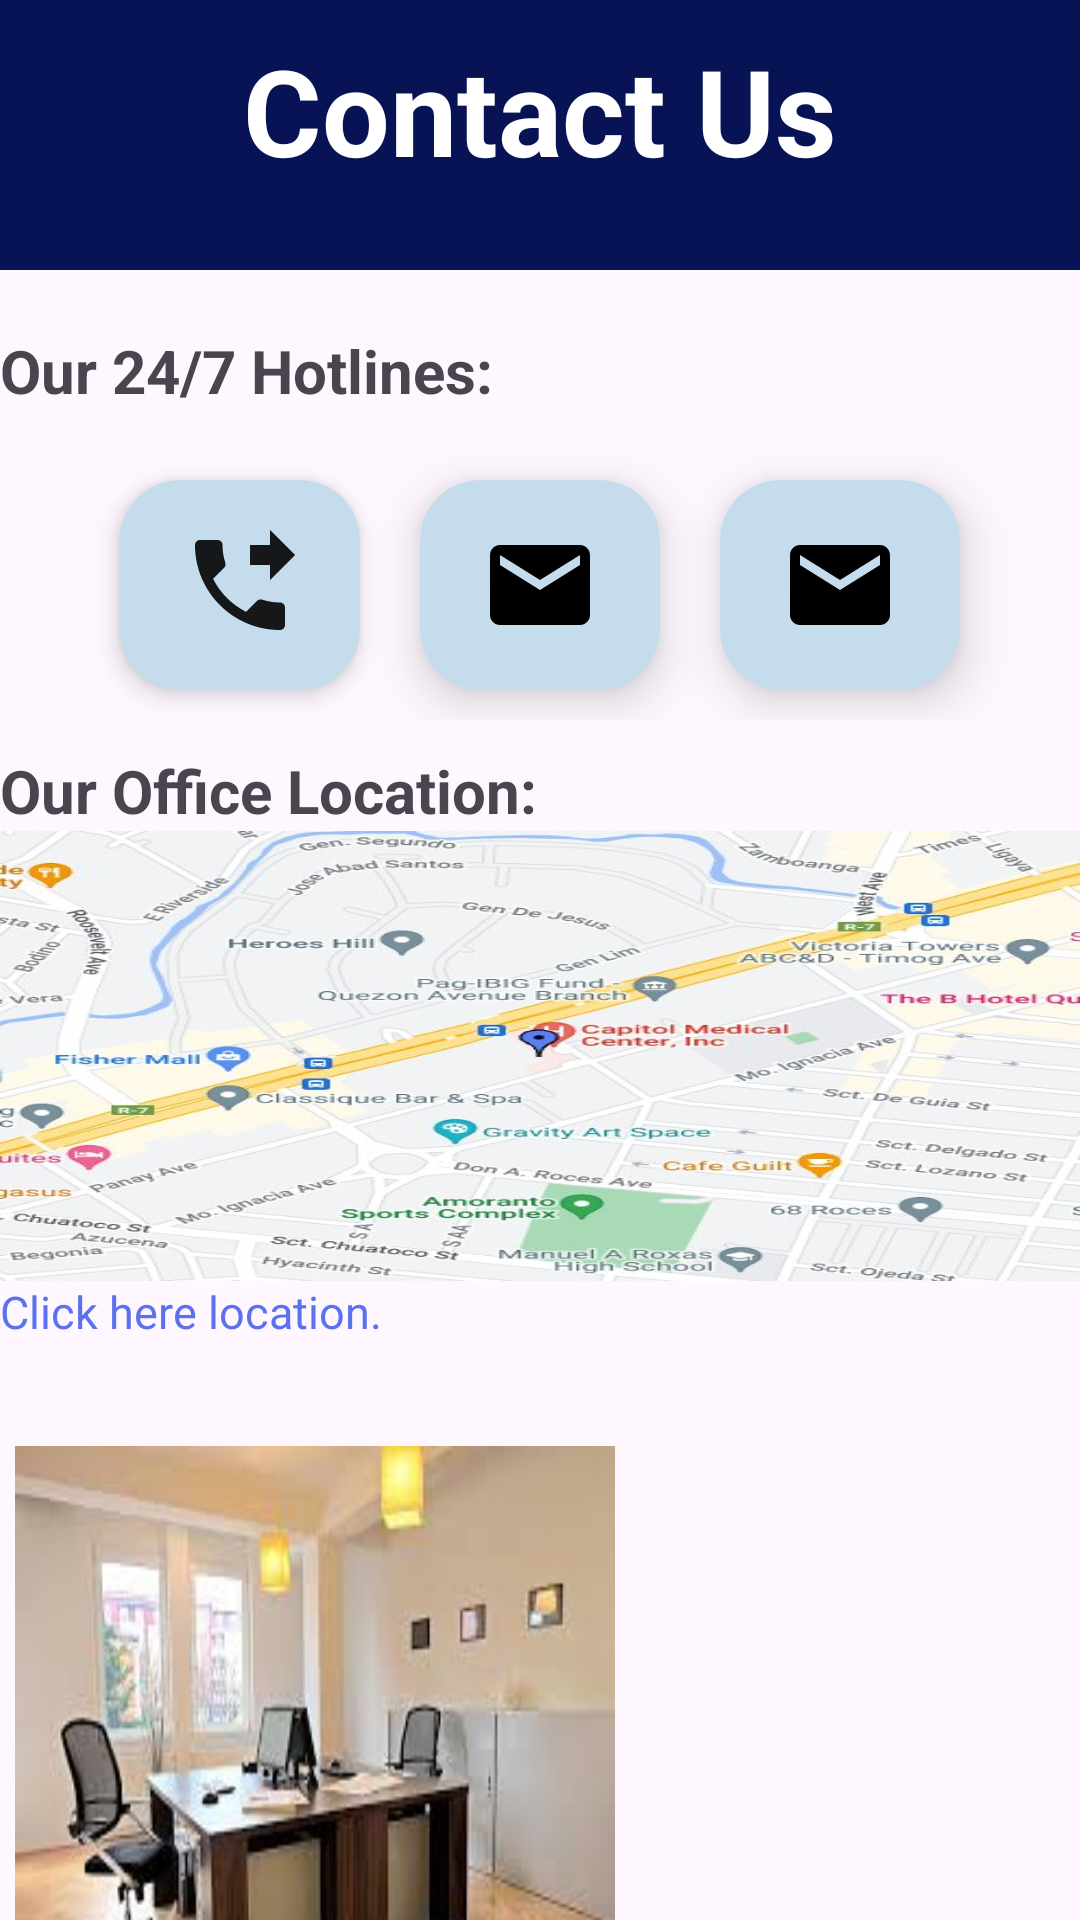

Icons on this 1080*1920 Android screen, each with the point to tap as [x,y]:
email: [540,585], [840,585]
phone forwarded: [245,580]
